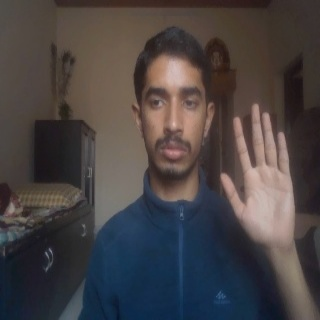Face: (128, 25, 218, 183)
Hello: (219, 101, 304, 259)
